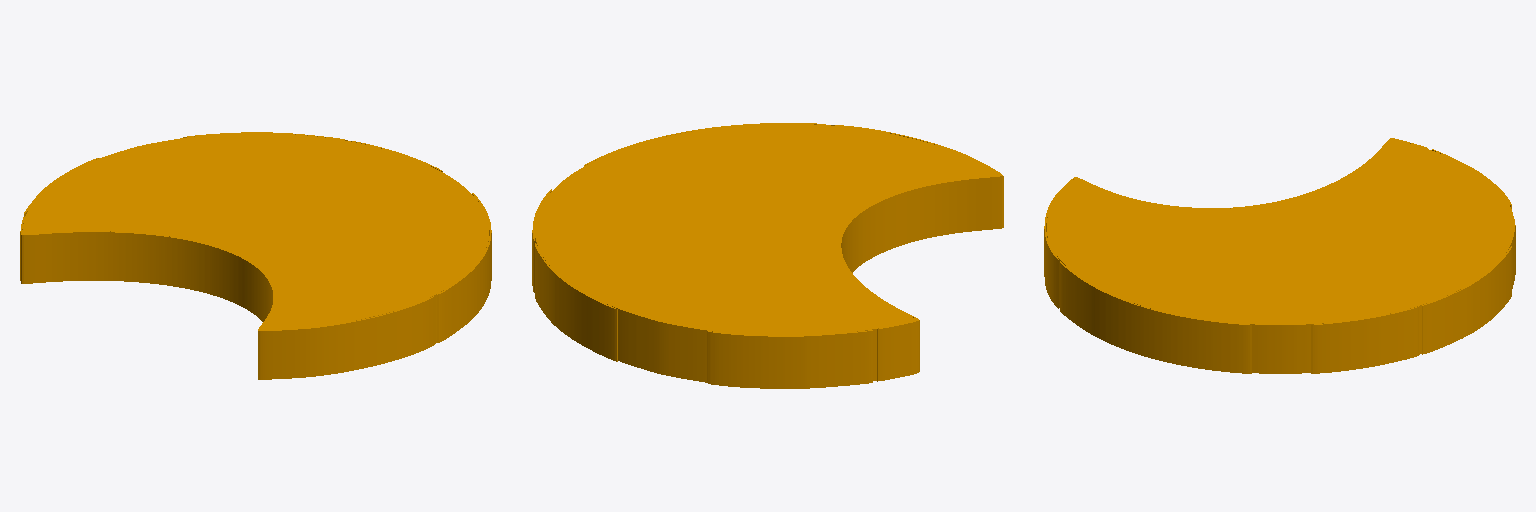
URDF robot description (i8.urdf):
<?xml version="1.0" encoding="utf-8"?>
<robot name="i8.urdf">
  <link name="baseLink">
    <contact>
      <lateral_friction value="0.5"/>
      <rolling_friction value="0.001"/>
      <spinning_friction value="0.001"/>
    </contact>
    <inertial>
      <origin rpy="0 0 0" xyz="0 0 0"/>
      <mass value="0.07"/>
      <inertia ixx="1" ixy="0" ixz="0" iyy="1" iyz="0" izz="1"/>
    </inertial>
    <visual>
      <origin rpy="0 0 0" xyz="0 0 0"/>
      <geometry>
        <mesh filename="i8.obj" scale="0.2 0.2 0.1"/> <!-- Scale x and y by 3.5, z by 1.0 -->
      </geometry>
    </visual>
    <collision>
      <origin rpy="0 0 0" xyz="0 0 0"/>
      <geometry>
        <mesh filename="i8.obj" scale="0.2 0.2 0.1"/> <!-- Scale x and y by 3.5, z by 1.0 -->
      </geometry>
    </collision>
  </link>
</robot>

--- Facts derived from the render (not from the file) ---
The picture shows the robot from 3 angles, left to right: view 1: azimuth 30°, elevation 25°; view 2: azimuth 150°, elevation 25°; view 3: azimuth 270°, elevation 25°; orthographic projection.
Robot: i8.urdf — 1 links, 0 joints (none); root link baseLink; default pose: every joint at zero.
Visible links, largest first — view 1: baseLink; view 2: baseLink; view 3: baseLink.
Boxes of the visible links, <box> form: baseLink: <box>20,132,491,379</box>; baseLink: <box>532,123,1003,388</box>; baseLink: <box>1044,138,1515,373</box>.
Bounding box of the posed robot: 0.3236 × 0.3444 × 0.0394 m (x, y, z).
1 mesh visuals loaded from 1 distinct referenced files (1 OBJ).